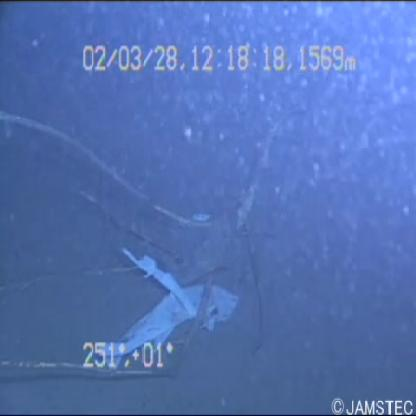Rác: (81, 209, 245, 381)
